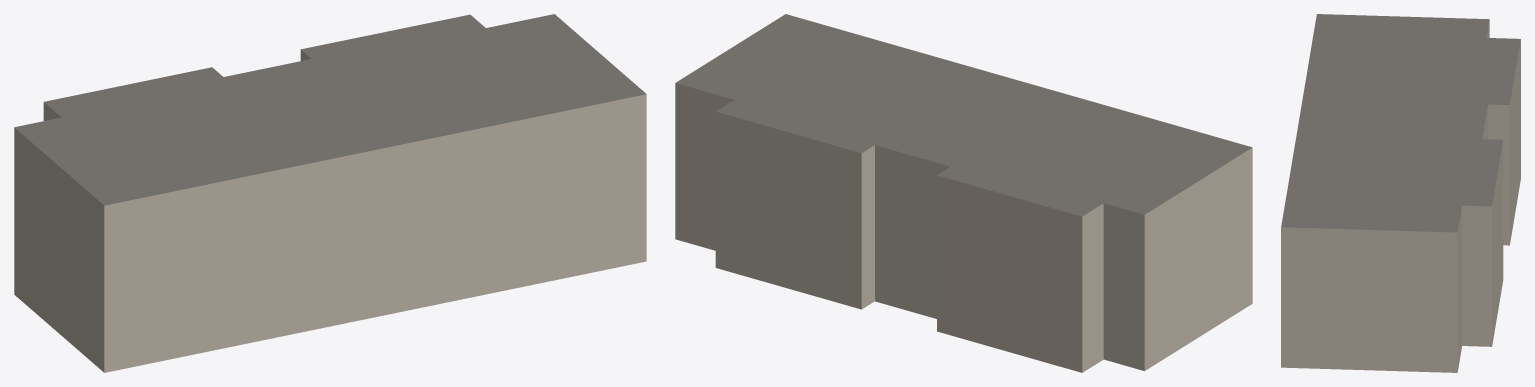
3 renders of one model, left to right at view 1: azimuth 30°, elevation 25°; view 2: azimuth 150°, elevation 25°; view 3: azimuth 270°, elevation 25°, orthographic. The views are drawn at different scales.
Parts seen in each view (by area): view 1: HP-w734461621; view 2: HP-w734461621; view 3: HP-w734461621.
Part boxes in pixels (<box>): HP-w734461621: <box>14,14,646,372</box>; HP-w734461621: <box>675,14,1252,372</box>; HP-w734461621: <box>1281,14,1520,372</box>.
Bounding box in the file's own units: 60.14 × 18 × 27.87.
